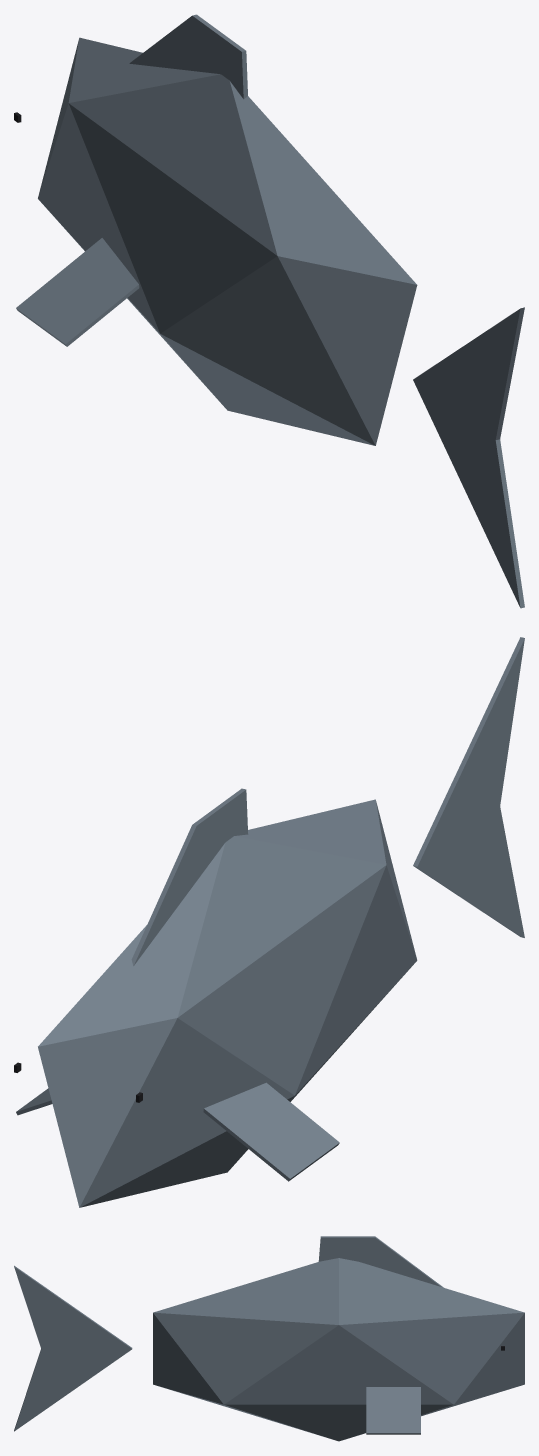
The model's file is ani_shark.glb.
3 views of the same model, one above another, from view 1: azimuth 30°, elevation 25°; view 2: azimuth 150°, elevation 25°; view 3: azimuth 270°, elevation 25° (orthographic). The views are drawn at different scales.
Parts seen in each view (by area): view 1: ani_shark, ani_shark_tail; view 2: ani_shark, ani_shark_tail; view 3: ani_shark, ani_shark_tail.
Part boxes in pixels (x1=…): ani_shark: x1=14, y1=14, x2=417, y2=445; ani_shark_tail: x1=413, y1=307, x2=524, y2=608; ani_shark: x1=14, y1=788, x2=417, y2=1207; ani_shark_tail: x1=413, y1=637, x2=524, y2=937; ani_shark: x1=153, y1=1236, x2=524, y2=1441; ani_shark_tail: x1=14, y1=1265, x2=132, y2=1431.
Bounding box in the file's own units: 1.22 × 1.58 × 3.59.
